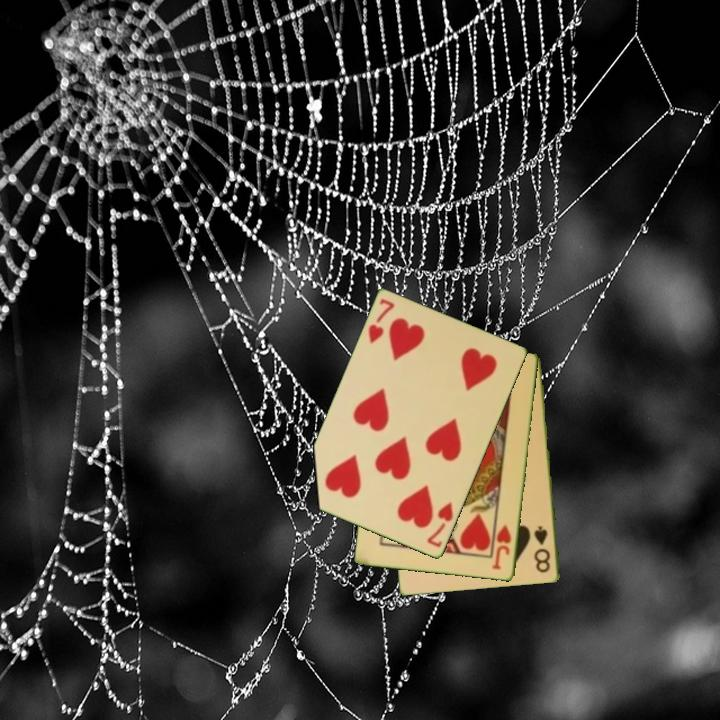7h: (423, 499, 456, 551), (365, 296, 398, 347)
8s: (531, 523, 553, 576)
Jh: (489, 521, 514, 573)
